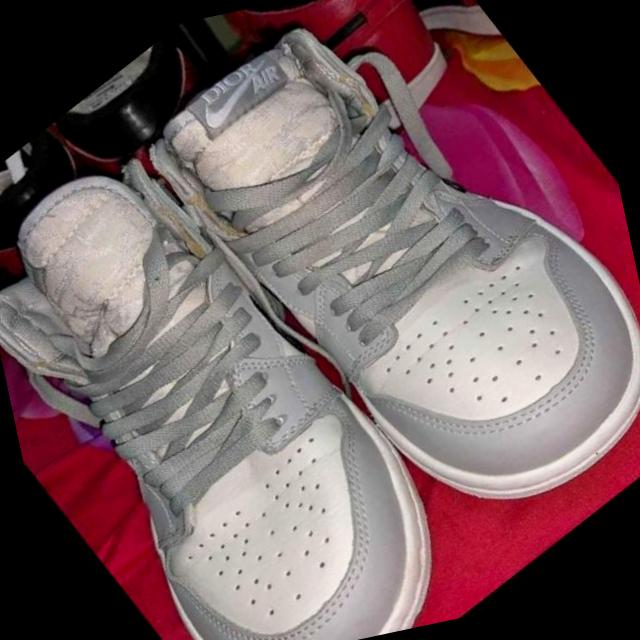nike_fake_jordan: (111, 0, 640, 615), (0, 63, 508, 640)
